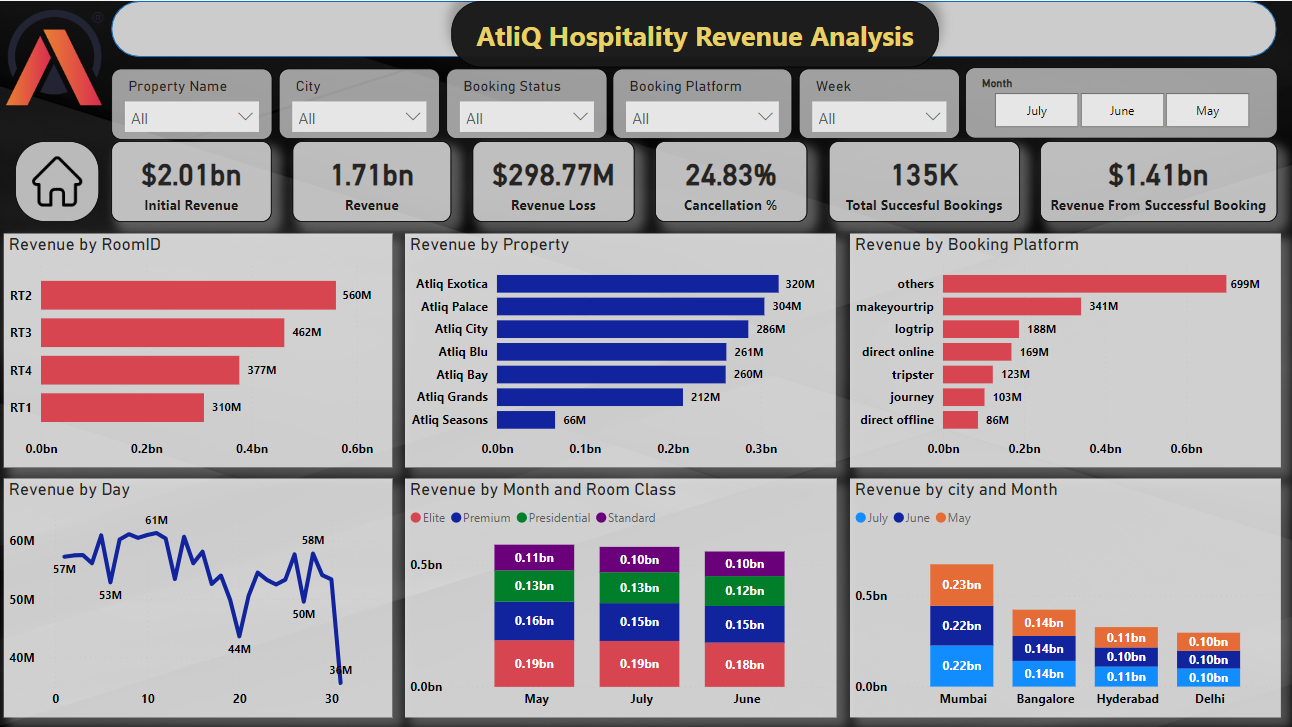

The page's visual inventory and layout, read from the dashboard file:
{"tool":"powerbi","page":{"name":"Revenue Analysis","canvas":[1280,720],"ordinal":2},"visuals":[{"type":"shape","box":[110.4,0,1150.9,55.2],"z":0},{"type":"image","box":[0,0,110,110],"z":1000},{"type":"slicer","fields":{"Values":["dim_hotels.property_name"]},"box":[110.4,66.3,159.5,70],"z":2000},{"type":"slicer","fields":{"Values":["dim_hotels.city"]},"box":[275.3,66.3,159.5,69.9],"z":3000},{"type":"slicer","fields":{"Values":["fact_bookings.booking_status"]},"box":[440.2,66.3,159.5,69.9],"z":4000},{"type":"slicer","fields":{"Values":["fact_bookings.booking_platform"]},"box":[605.2,66.3,177.9,69.9],"z":5000},{"type":"slicer","fields":{"Values":["dim_date.Week"]},"box":[788.5,66.3,159.5,69.9],"z":6000},{"type":"slicer","fields":{"Values":["dim_date.Month"]},"box":[952.9,65.7,308.6,70],"z":7000},{"type":"card","fields":{"Values":["Key Measure.Revenue"]},"box":[289.1,138.6,157.1,80],"z":8000},{"type":"card","fields":{"Values":["Key Measure.Cancellation %"]},"box":[647.4,138.6,150,80],"z":9000},{"type":"card","fields":{"Values":["Key Measure.Total Succesful Bookings"]},"box":[818,138.6,188.6,80],"z":10000},{"type":"card","fields":{"Values":["Key Measure.Revenue Per Successful Booking"]},"box":[1027.1,138.6,234.3,80],"z":11000},{"type":"card","fields":{"Values":["Key Measure.Initial Revenue"]},"box":[110,138.6,158.6,80],"z":13000},{"type":"card","fields":{"Values":["Key Measure.Revenue Loss"]},"box":[466.9,138.6,160,80],"z":14000},{"type":"clusteredBarChart","fields":{"Y":["Key Measure.Revenue"],"Category":["dim_rooms.room_id"]},"box":[4.3,230,384.3,231.4],"z":15000},{"type":"clusteredBarChart","fields":{"Y":["Key Measure.Revenue"],"Category":["dim_hotels.property_name"]},"box":[400,230,425.7,231.4],"z":16000},{"type":"clusteredBarChart","fields":{"Y":["Key Measure.Revenue"],"Category":["fact_bookings.booking_platform"]},"box":[840,230,425.7,231.4],"z":17000},{"type":"lineChart","fields":{"Y":["Key Measure.Revenue"],"Category":["dim_date.date.Variation.Date Hierarchy.Day"]},"box":[4.3,471.4,384.3,235.7],"z":18000},{"type":"columnChart","fields":{"Y":["Key Measure.Revenue"],"Category":["dim_date.Month"],"Series":["dim_rooms.room_class"]},"box":[400,471,426,236],"z":19000},{"type":"columnChart","fields":{"Y":["Key Measure.Revenue"],"Category":["dim_hotels.city"],"Series":["dim_date.Month"]},"box":[840,471.4,425.7,235.7],"z":20000},{"type":"image","box":[14.3,138.6,82.9,80],"z":21000},{"type":"textbox","box":[445.7,0,481.4,65.7],"z":21001}]}

Visuals, with their boxes in screenshot pixels (x1, y1, x2, y2), scaled from the page's 1280x720 canvas onto the 1292x727 screenshot:
shape: [left=111, top=0, right=1273, bottom=56]
image: [left=0, top=0, right=111, bottom=111]
slicer - dim_hotels.property_name: [left=111, top=67, right=272, bottom=138]
slicer - dim_hotels.city: [left=278, top=67, right=439, bottom=138]
slicer - fact_bookings.booking_status: [left=444, top=67, right=605, bottom=138]
slicer - fact_bookings.booking_platform: [left=611, top=67, right=790, bottom=138]
slicer - dim_date.Week: [left=796, top=67, right=957, bottom=138]
slicer - dim_date.Month: [left=962, top=66, right=1273, bottom=137]
card - Key Measure.Revenue: [left=292, top=140, right=450, bottom=221]
card - Key Measure.Cancellation %: [left=653, top=140, right=805, bottom=221]
card - Key Measure.Total Succesful Bookings: [left=826, top=140, right=1016, bottom=221]
card - Key Measure.Revenue Per Successful Booking: [left=1037, top=140, right=1273, bottom=221]
card - Key Measure.Initial Revenue: [left=111, top=140, right=271, bottom=221]
card - Key Measure.Revenue Loss: [left=471, top=140, right=633, bottom=221]
clusteredBarChart - Key Measure.Revenue x dim_rooms.room_id: [left=4, top=232, right=392, bottom=466]
clusteredBarChart - Key Measure.Revenue x dim_hotels.property_name: [left=404, top=232, right=833, bottom=466]
clusteredBarChart - Key Measure.Revenue x fact_bookings.booking_platform: [left=848, top=232, right=1278, bottom=466]
lineChart - Key Measure.Revenue x dim_date.date.Variation.Date Hierarchy.Day: [left=4, top=476, right=392, bottom=714]
columnChart - Key Measure.Revenue x dim_date.Month: [left=404, top=476, right=834, bottom=714]
columnChart - Key Measure.Revenue x dim_hotels.city: [left=848, top=476, right=1278, bottom=714]
image: [left=14, top=140, right=98, bottom=221]
textbox: [left=450, top=0, right=936, bottom=66]
